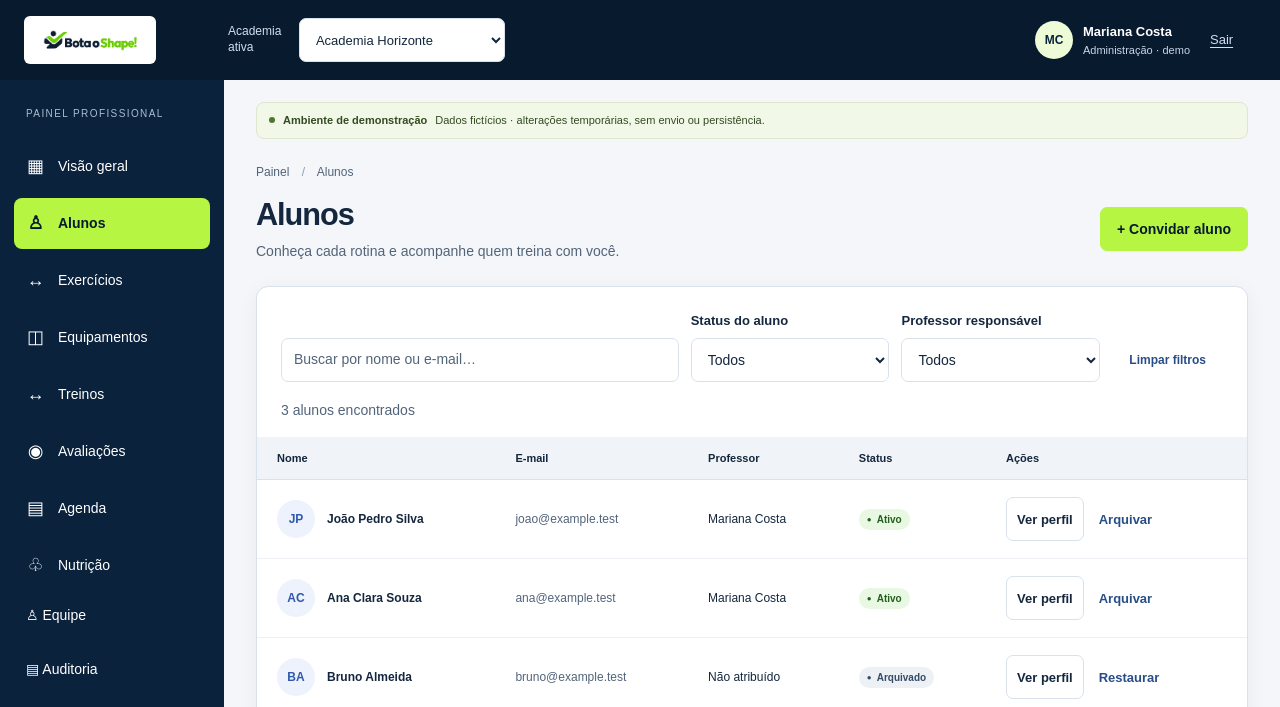
Test: alunos › limpa busca e dados ao trocar academia, sem expor aluno de outro tenant
The width and height of the screenshot is (1280, 707).
Type "João" into the search field named "Buscar alunos" at (480, 360), box [281,338,679,382]
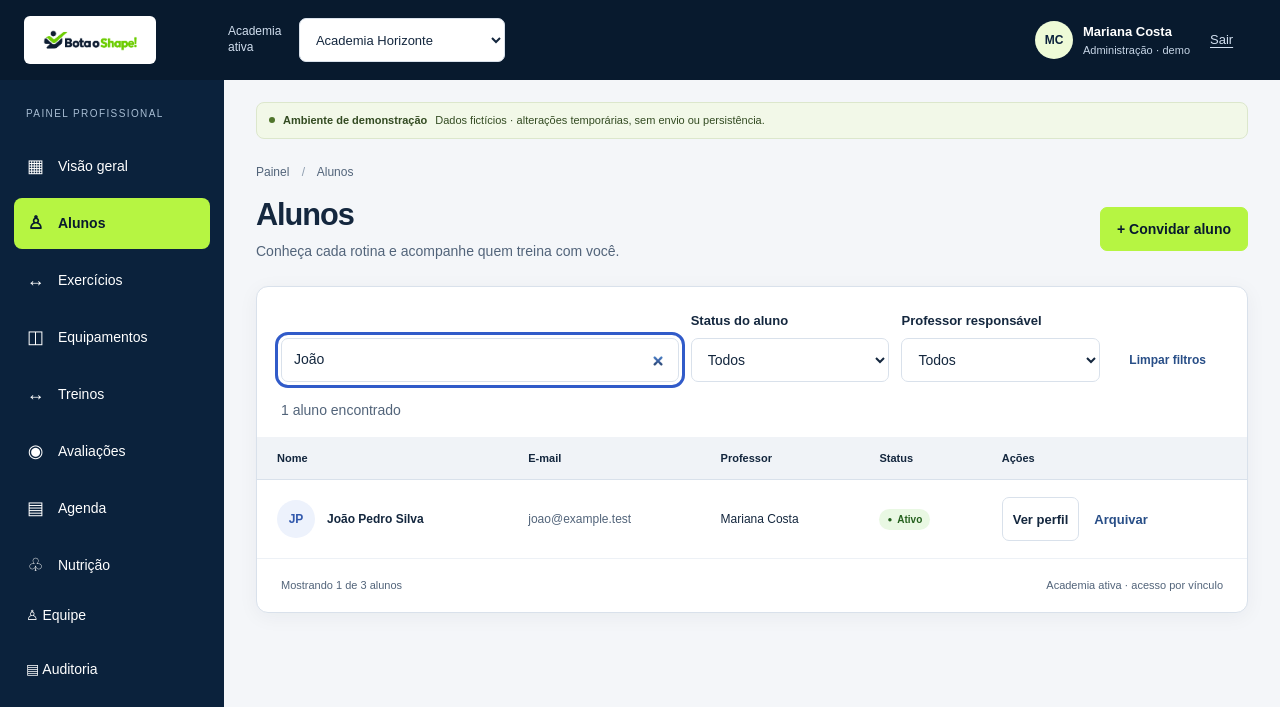
Select "Academia Movimento" in the dropdown labelled "Academia ativa" at (402, 40), box [299,18,505,62]
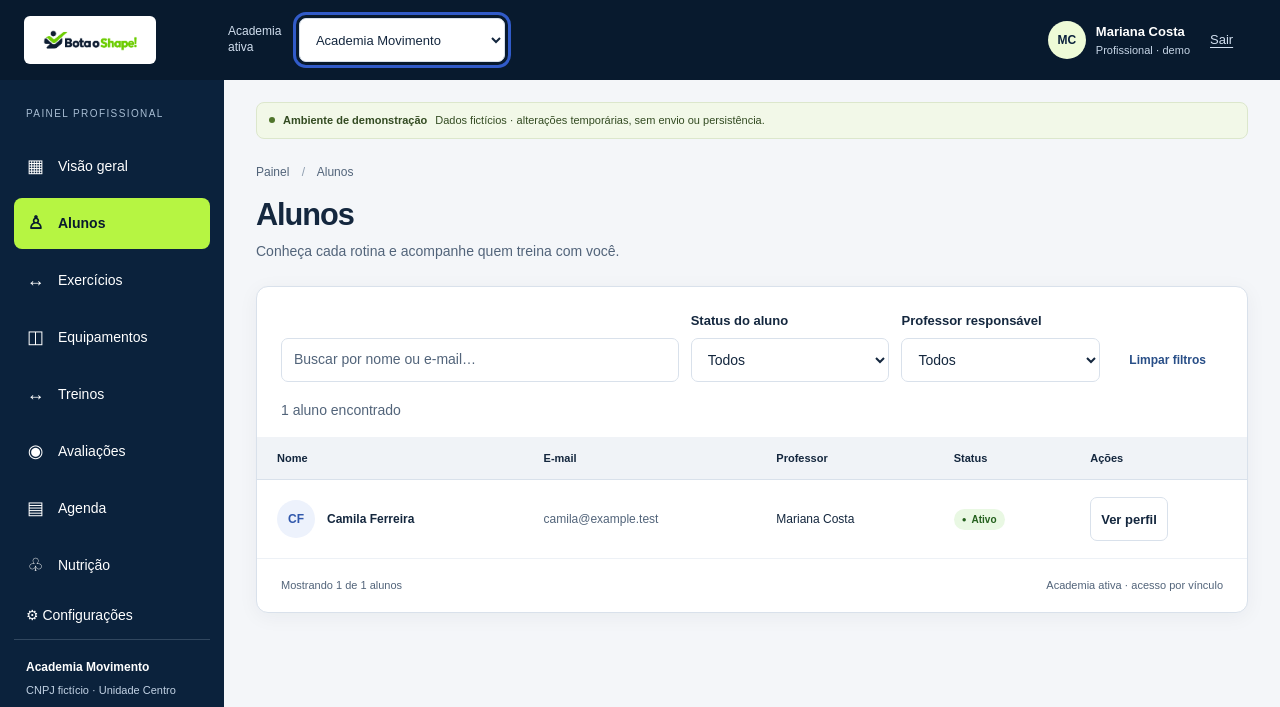
Expected: the search field named "Buscar alunos" is empty, [281,338,679,382]
Expected: the link "Camila Ferreira" is shown, [277,497,414,541]
Expected: the link "João Pedro Silva" is gone
